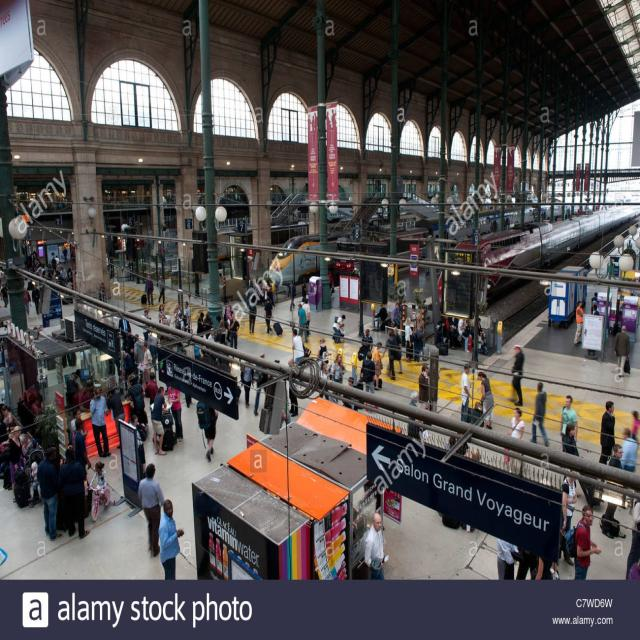body: (56, 446, 91, 540), (135, 462, 166, 557), (37, 444, 63, 542), (573, 503, 602, 581), (158, 498, 185, 580), (8, 424, 29, 510), (602, 442, 623, 524), (89, 386, 112, 460), (559, 475, 577, 567), (69, 417, 90, 490), (364, 512, 386, 580), (197, 400, 220, 464), (562, 422, 581, 498), (78, 339, 114, 379), (621, 428, 638, 510), (105, 387, 126, 450), (598, 400, 618, 466), (531, 380, 550, 449), (624, 500, 639, 584), (0, 401, 14, 490), (507, 408, 525, 477), (151, 385, 168, 456), (559, 394, 579, 452), (129, 414, 146, 481), (496, 536, 520, 581), (82, 300, 118, 330), (253, 352, 269, 417), (167, 386, 184, 444), (126, 377, 146, 425), (478, 370, 494, 430), (360, 351, 376, 408), (510, 344, 524, 407), (88, 460, 108, 504), (614, 324, 630, 379), (18, 432, 34, 487), (24, 250, 52, 281), (382, 328, 398, 382), (514, 547, 540, 580), (372, 339, 388, 391), (407, 391, 422, 444), (240, 362, 256, 407), (437, 310, 455, 350), (412, 312, 426, 363), (254, 276, 277, 307), (287, 359, 299, 418), (69, 382, 91, 412), (460, 363, 471, 422), (119, 349, 134, 392), (140, 343, 152, 396), (70, 407, 90, 437), (392, 326, 404, 374), (28, 461, 42, 502), (132, 332, 145, 376), (291, 328, 306, 364), (573, 300, 585, 345), (344, 376, 359, 412), (532, 555, 553, 580), (359, 328, 374, 362), (447, 310, 460, 349), (297, 303, 309, 344), (404, 316, 414, 364), (291, 328, 305, 362), (418, 364, 430, 403), (318, 359, 329, 401), (179, 340, 202, 360), (457, 318, 470, 353), (247, 294, 258, 334), (300, 298, 312, 334), (119, 318, 132, 351), (332, 314, 346, 344), (229, 312, 240, 350), (222, 304, 234, 338), (373, 304, 388, 330), (316, 336, 329, 364), (456, 432, 470, 458), (331, 352, 343, 382), (287, 277, 297, 311), (264, 298, 273, 335), (72, 368, 84, 395), (24, 285, 33, 318), (631, 409, 640, 442), (477, 317, 487, 346), (145, 274, 154, 306), (391, 302, 401, 330), (218, 354, 232, 374), (183, 300, 191, 334), (125, 326, 134, 356), (203, 312, 213, 339), (157, 275, 166, 304), (32, 284, 40, 316), (0, 282, 9, 308), (327, 269, 335, 297), (31, 397, 42, 417), (444, 436, 456, 453), (196, 312, 205, 334), (66, 350, 77, 368), (469, 447, 481, 462), (336, 321, 344, 343), (591, 292, 598, 316), (27, 380, 40, 392), (60, 345, 66, 371), (540, 209, 551, 223), (98, 282, 105, 303), (59, 266, 68, 282), (301, 276, 307, 300), (503, 215, 512, 231), (51, 254, 58, 273), (66, 267, 73, 286), (62, 244, 68, 266), (592, 300, 600, 315), (185, 394, 192, 411), (208, 328, 215, 343), (566, 206, 574, 219), (593, 304, 600, 316), (54, 255, 60, 266), (216, 314, 222, 323)
